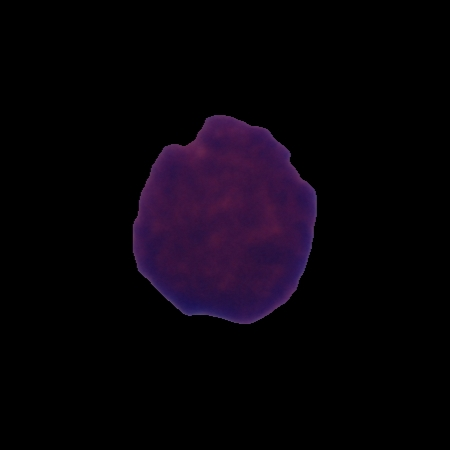ALL: (127, 110, 322, 327)
